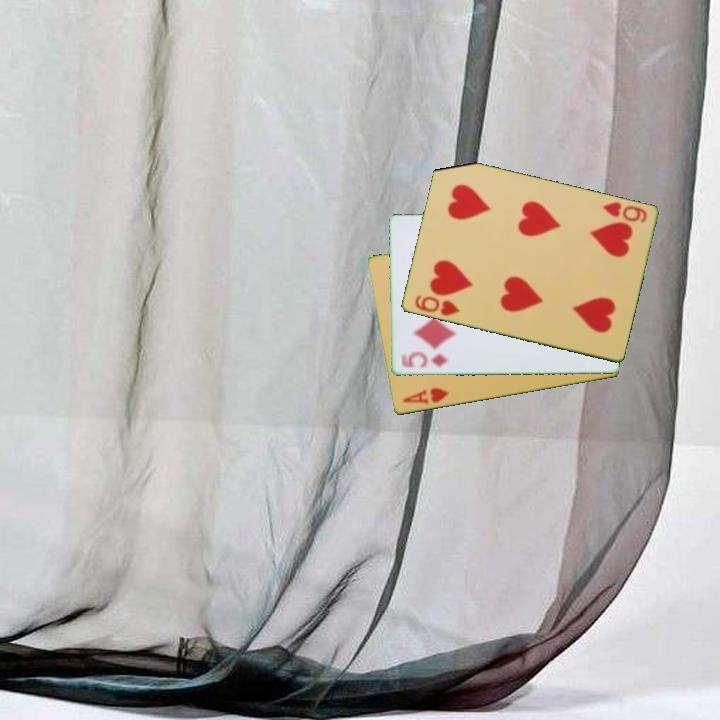5d: (397, 349, 451, 371)
6h: (599, 198, 650, 226), (411, 292, 462, 319)
Ah: (399, 384, 451, 408)
